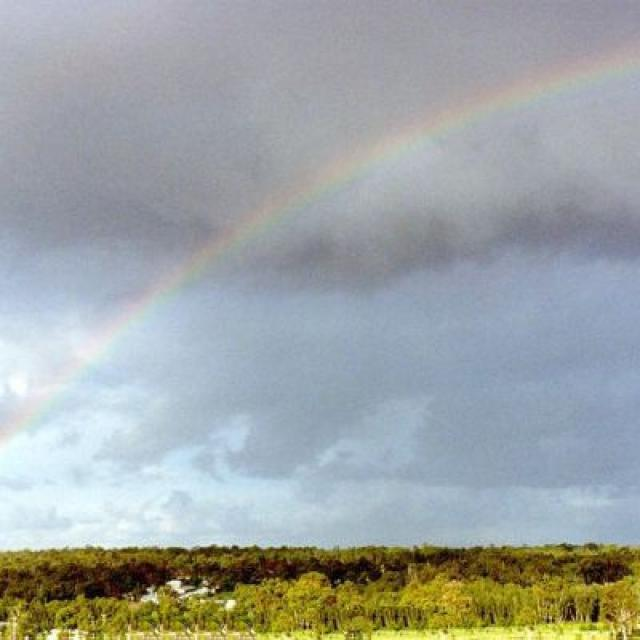Ns: (1, 76, 640, 503)
